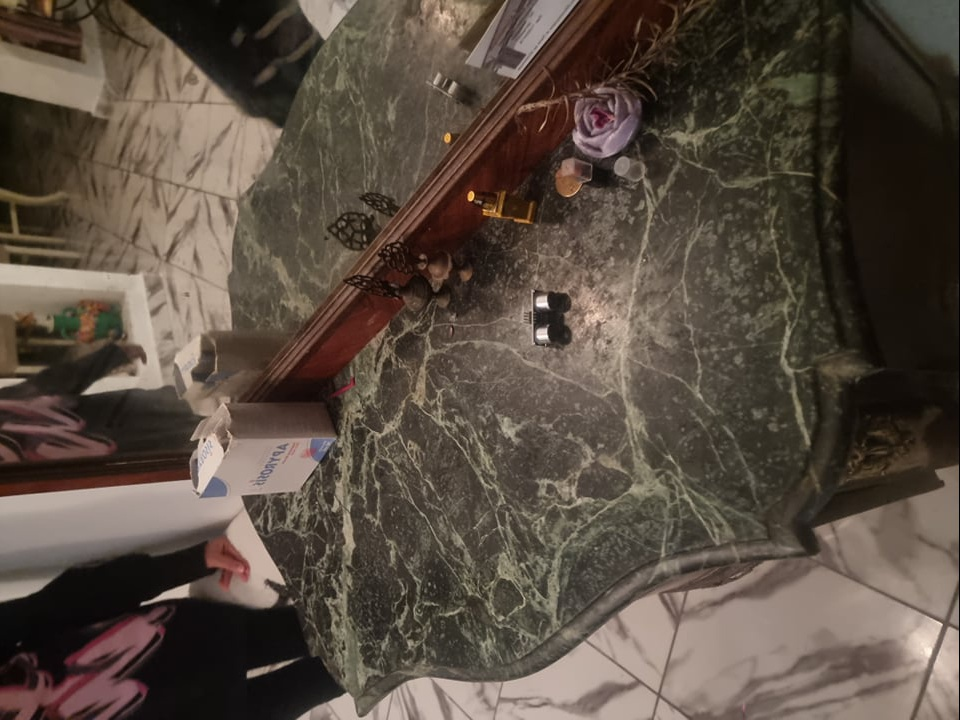SENSOR: (527, 288, 560, 352)
